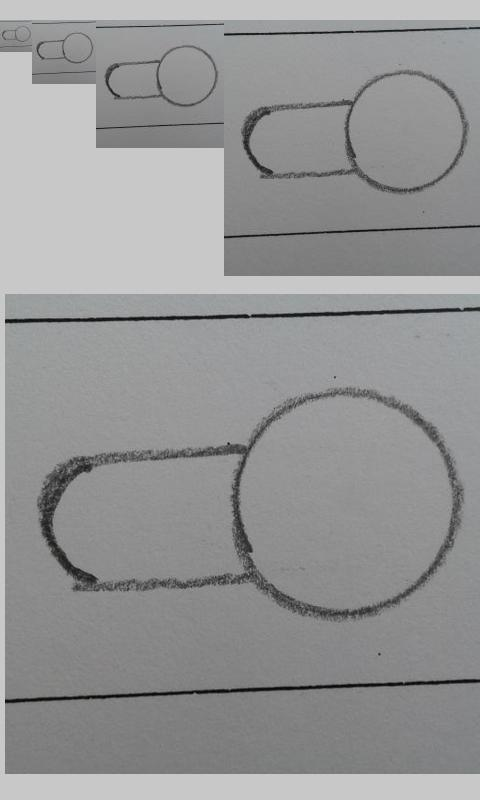switch: (37, 385, 465, 623), (240, 69, 469, 195), (104, 44, 218, 108), (36, 32, 94, 64), (1, 25, 32, 42)
